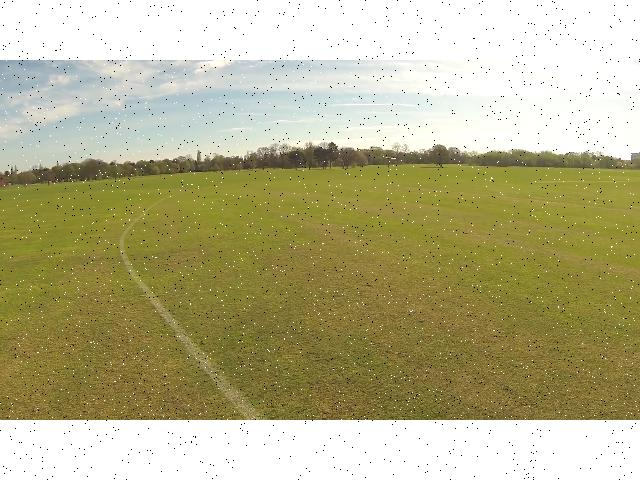Anti-Drone: (378, 149, 400, 165)
